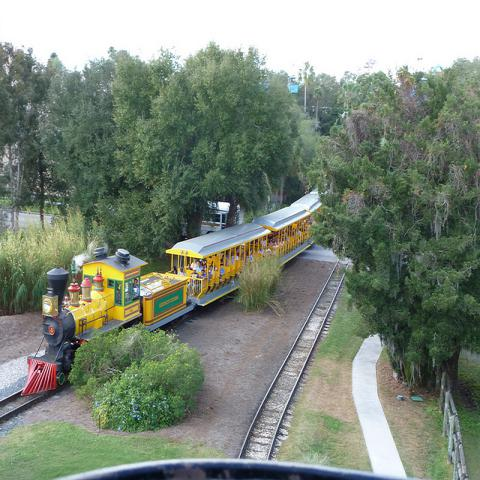bus: (181, 201, 241, 237)
